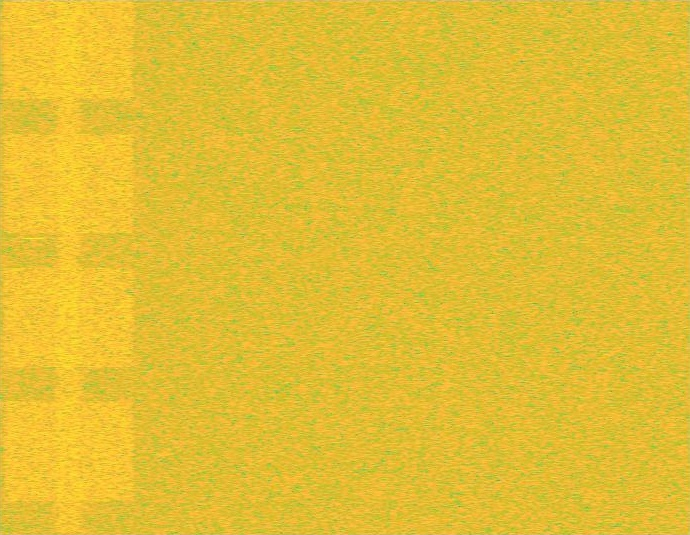5G: (0, 0, 138, 534)
DSSS: (53, 0, 85, 534)
Radar: (27, 0, 41, 534)
